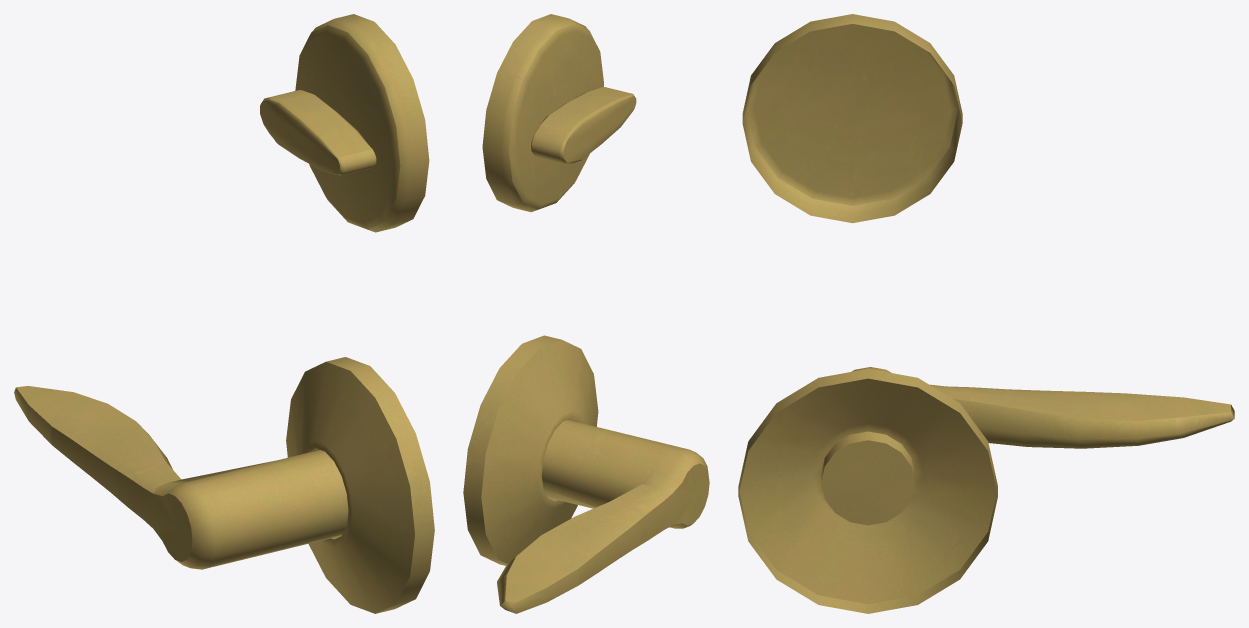
Rendered from Handle2.fbx.
The picture shows the model from 3 angles, left to right: view 1: azimuth 30°, elevation 25°; view 2: azimuth 150°, elevation 25°; view 3: azimuth 270°, elevation 25°; orthographic projection. The views are drawn at different scales.
Visible parts, largest first — view 1: polySurface1240; view 2: polySurface1240; view 3: polySurface1240.
Part boxes in pixels (bbox=[...]): polySurface1240: bbox=[14, 14, 434, 613]; polySurface1240: bbox=[463, 14, 709, 613]; polySurface1240: bbox=[738, 14, 1234, 613].
Size of the model in its own units: 0.0907 by 0.2631 by 0.2011.
